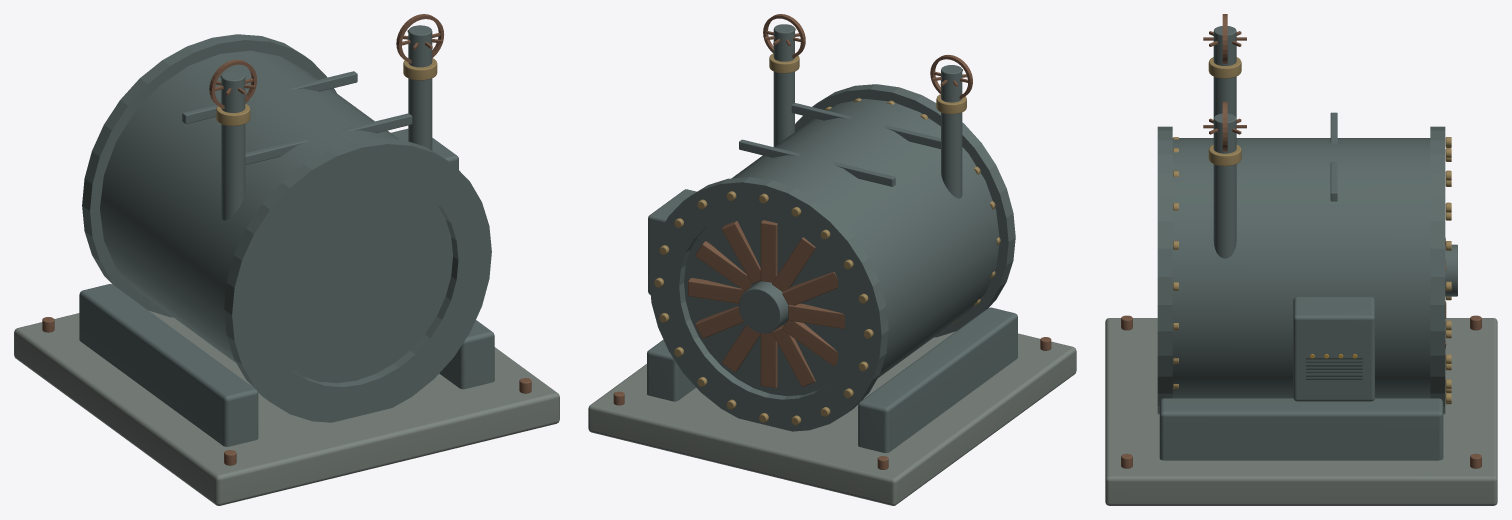
Rendered from turbine.glb.
3 views of the same model, side by side, from view 1: azimuth 30°, elevation 25°; view 2: azimuth 150°, elevation 25°; view 3: azimuth 270°, elevation 25° (orthographic). The views are drawn at different scales.
Visible parts, largest first — view 1: Turbine housing, Foundation, End flange, Mounting saddle, End flange.001, Service pipe, Service pipe.001, Mounting saddle.001, Casing rib, Casing rib.001, Valve wheel.001, Valve wheel; view 2: Turbine housing, Foundation, End flange.001, Mounting saddle, End flange, Service pipe, Service pipe.001, Rotor hub, Mounting saddle.001, Casing rib.001, Rotor blade.002, Casing rib (+12 smaller); view 3: Turbine housing, Foundation, Mounting saddle.001, Control box, End flange, End flange.001, Service pipe.001, Service pipe, Rotor hub, Casing rib.001, Valve coupling.001, Valve coupling.
Boxes of the visible parts, x1=… form: Turbine housing: x1=100, y1=50, x2=452, y2=383; Foundation: x1=14, y1=310, x2=559, y2=505; End flange: x1=224, y1=138, x2=491, y2=422; Mounting saddle: x1=79, y1=284, x2=258, y2=446; End flange.001: x1=82, y1=34, x2=336, y2=317; Service pipe: x1=221, y1=71, x2=245, y2=220; Service pipe.001: x1=408, y1=25, x2=432, y2=150; Mounting saddle.001: x1=439, y1=320, x2=494, y2=389; Casing rib: x1=245, y1=113, x2=412, y2=164; Casing rib.001: x1=182, y1=71, x2=357, y2=123; Valve wheel.001: x1=396, y1=14, x2=444, y2=63; Valve wheel: x1=209, y1=59, x2=257, y2=109; Turbine housing: x1=684, y1=99, x2=999, y2=396; Foundation: x1=588, y1=331, x2=1076, y2=505; End flange.001: x1=649, y1=177, x2=888, y2=431; Mounting saddle: x1=858, y1=307, x2=1017, y2=452; End flange: x1=795, y1=84, x2=1015, y2=337; Service pipe: x1=941, y1=65, x2=962, y2=198; Service pipe.001: x1=773, y1=24, x2=794, y2=146; Rotor hub: x1=739, y1=281, x2=788, y2=333; Mounting saddle.001: x1=647, y1=339, x2=695, y2=401; Casing rib.001: x1=739, y1=139, x2=895, y2=186; Rotor blade.002: x1=722, y1=221, x2=760, y2=283; Casing rib: x1=791, y1=103, x2=940, y2=148; Turbine housing: x1=1172, y1=138, x2=1430, y2=398; Foundation: x1=1105, y1=318, x2=1497, y2=505; Mounting saddle.001: x1=1159, y1=398, x2=1443, y2=460; Control box: x1=1293, y1=297, x2=1374, y2=401; End flange: x1=1157, y1=126, x2=1172, y2=414; End flange.001: x1=1430, y1=126, x2=1445, y2=414; Service pipe.001: x1=1213, y1=113, x2=1236, y2=258; Service pipe: x1=1213, y1=26, x2=1236, y2=117; Rotor hub: x1=1445, y1=244, x2=1457, y2=296; Casing rib.001: x1=1330, y1=112, x2=1337, y2=201; Valve coupling.001: x1=1208, y1=144, x2=1241, y2=166; Valve coupling: x1=1208, y1=57, x2=1241, y2=78.
Size of the model in its own units: 3.5 by 3.71 by 3.6.
